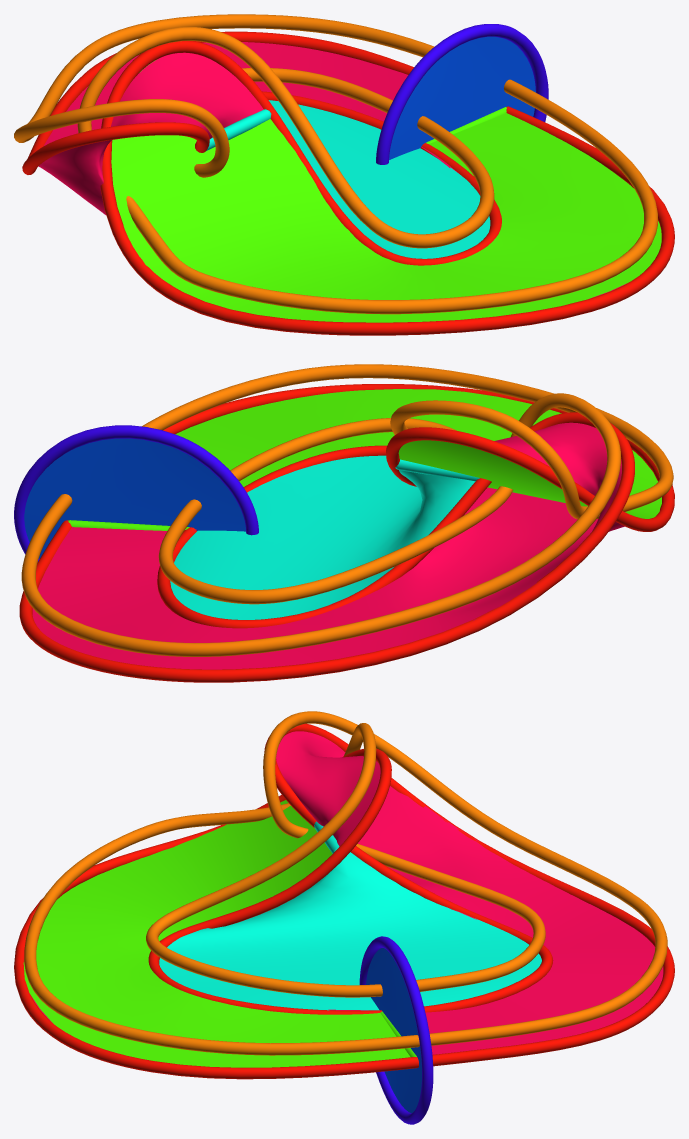
Rendered from Whitehead.glb.
3 views of the same model, one above another, from view 1: azimuth 30°, elevation 25°; view 2: azimuth 150°, elevation 25°; view 3: azimuth 270°, elevation 25° (orthographic). The views are drawn at different scales.
Visible parts, largest first — view 1: s.0055, s.0130, s.0017, s.0041, s.0059, s.0045, s.0019, s.0057; view 2: s.0041, s.0130, s.0059, s.0017, s.0055, s.0045, s.0019, s.0046, s.0057; view 3: s.0055, s.0041, s.0130, s.0059, s.0017, s.0045, s.0019.
Part boxes in pixels (box(x1,y1,x2,y2)): s.0055: box(111, 60, 661, 322); s.0130: box(14, 14, 657, 314); s.0017: box(22, 31, 674, 335); s.0041: box(38, 42, 626, 298); s.0059: box(268, 100, 490, 258); s.0045: box(389, 36, 535, 159); s.0019: box(376, 24, 548, 164); s.0057: box(206, 109, 271, 150); s.0041: box(32, 422, 624, 669); s.0130: box(21, 364, 673, 656); s.0059: box(170, 455, 475, 619); s.0017: box(19, 384, 674, 682); s.0055: box(175, 389, 661, 518); s.0045: box(24, 438, 245, 558); s.0019: box(14, 425, 258, 561); s.0046: box(68, 520, 189, 530); s.0057: box(395, 459, 479, 481); s.0055: box(23, 761, 410, 1067); s.0041: box(32, 731, 663, 1054); s.0130: box(24, 711, 667, 1055); s.0059: box(159, 852, 541, 1010); s.0017: box(14, 723, 674, 1079); s.0045: box(366, 948, 421, 1113); s.0019: box(359, 936, 433, 1124).
Size of the model in its own units: 0.6059 by 0.2845 by 0.7096.
